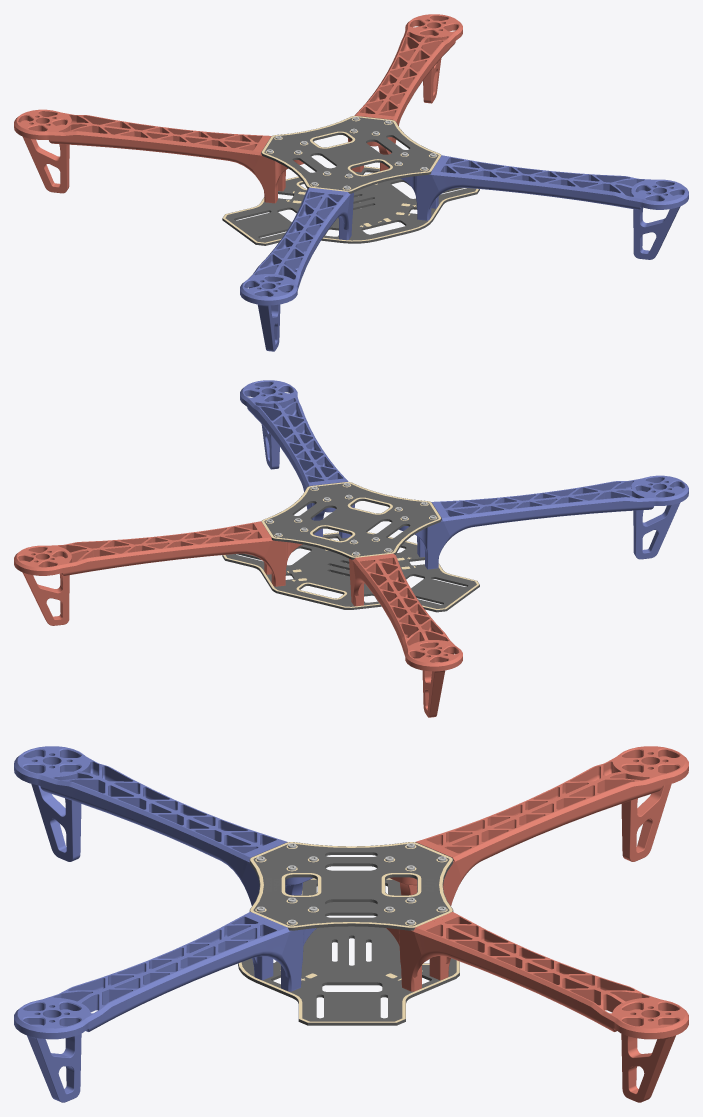
Rendered from chasis.glb.
The picture shows the model from 3 angles, top to bottom: view 1: azimuth 30°, elevation 25°; view 2: azimuth 150°, elevation 25°; view 3: azimuth 270°, elevation 25°; orthographic projection. The views are drawn at different scales.
Parts seen in each view (by area): view 1: chasis_FlameWheel; view 2: chasis_FlameWheel; view 3: chasis_FlameWheel.
Part boxes in pixels (x1=…): chasis_FlameWheel: x1=14, y1=14, x2=688, y2=351; chasis_FlameWheel: x1=14, y1=380, x2=688, y2=717; chasis_FlameWheel: x1=14, y1=746, x2=688, y2=1102.
Bounding box in the file's own units: 0.4508 × 0.0703 × 0.4508.
